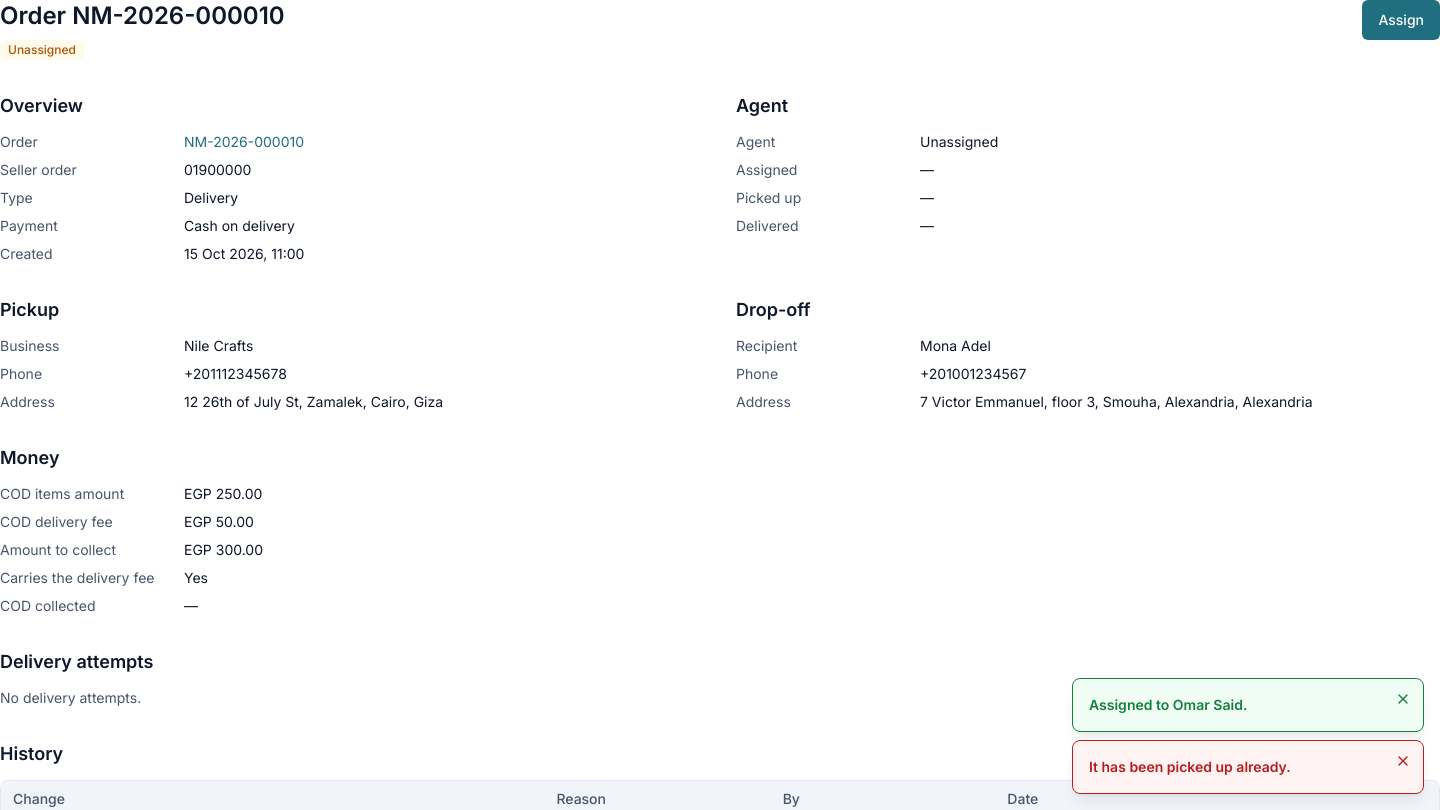
Test case: shipment (spec 03 AD-13) › AGENT_INACTIVE keeps the dialog open, explains and reloads the agents
Click the button "Assign": (1401, 20) [1362,0,1439,40]
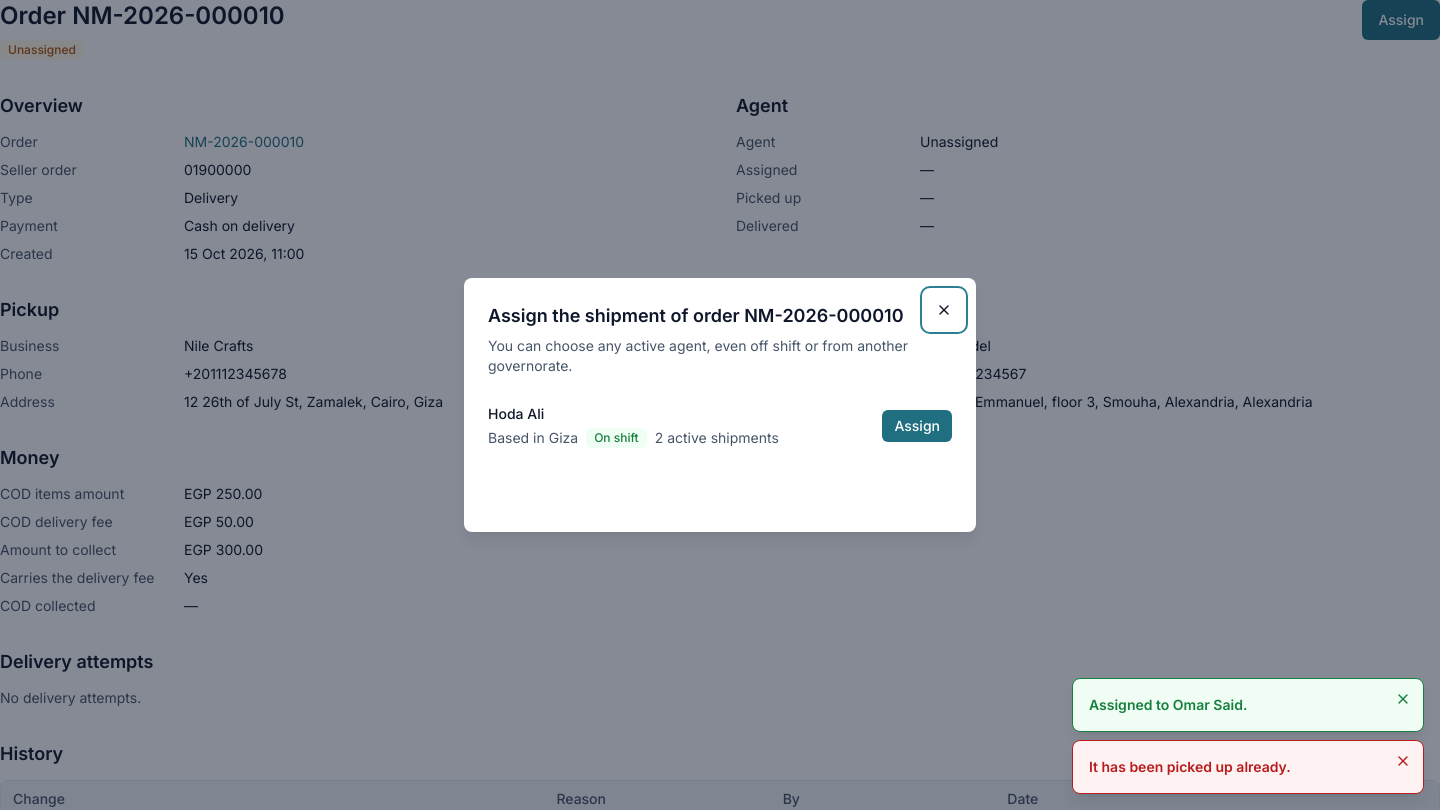
Click the button with aria-label "Assign to Hoda Ali": (917, 426) [882,410,952,442]
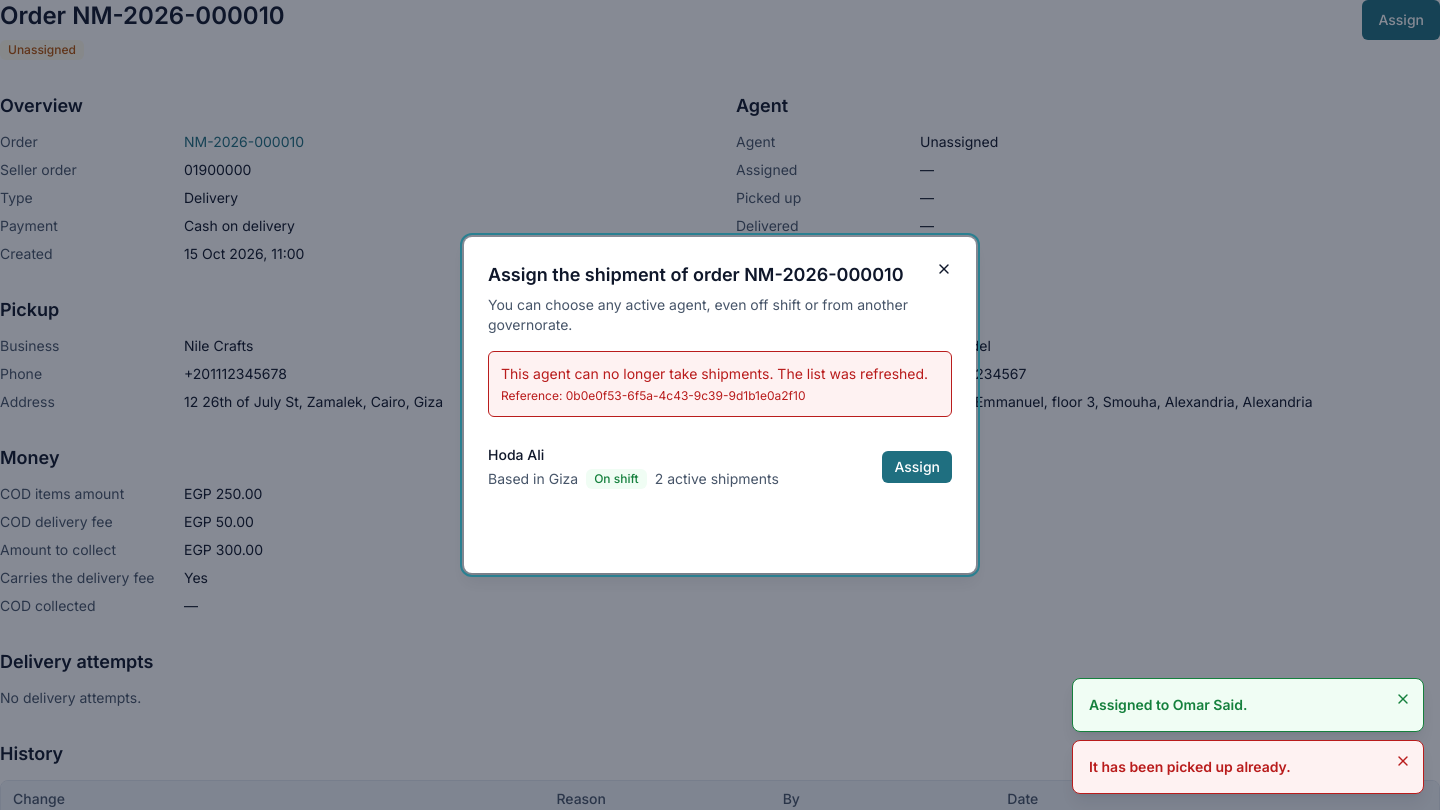
Expected: the text "This agent can no longer take shipments. The list was refreshed." is shown, [501,364,939,384]
